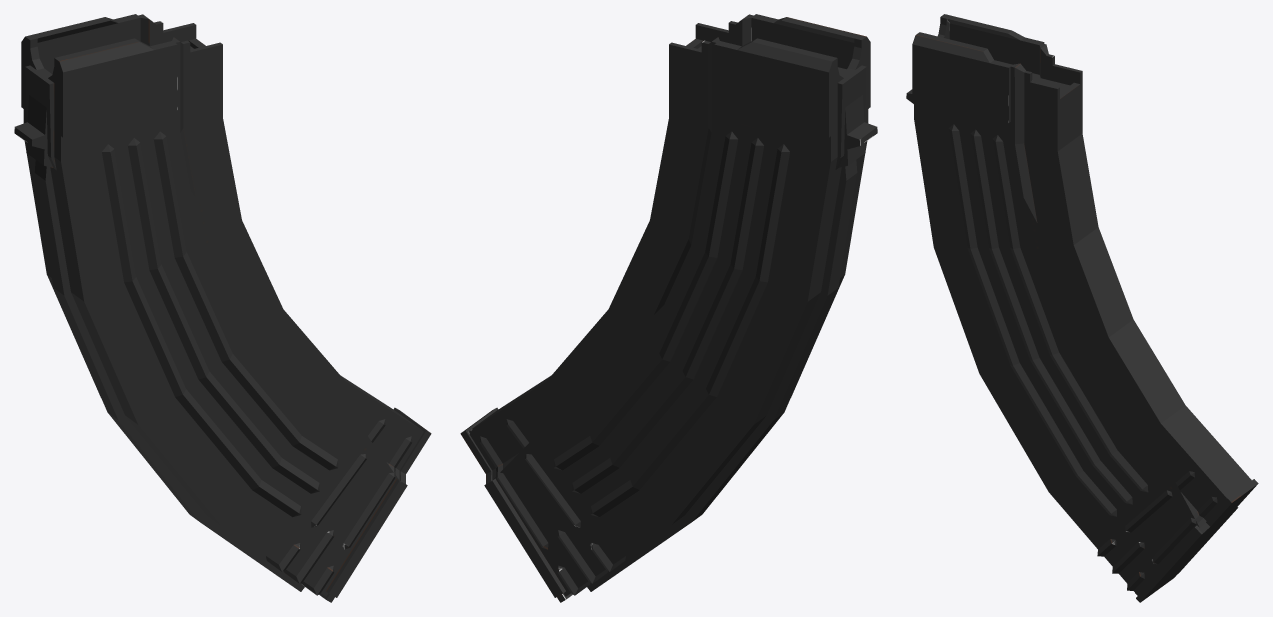
File: defualtMag.fbx
3 views of the same model, side by side, from view 1: azimuth 30°, elevation 25°; view 2: azimuth 150°, elevation 25°; view 3: azimuth 330°, elevation 25° (orthographic). The views are drawn at different scales.
Visible parts, largest first — view 1: Cube.001; view 2: Cube.001; view 3: Cube.001.
Boxes of the visible parts, bbox=[...] form: Cube.001: bbox=[14, 14, 431, 602]; Cube.001: bbox=[460, 14, 877, 602]; Cube.001: bbox=[906, 14, 1258, 602].
Size of the model in its own units: 149 by 219 by 28.54.
